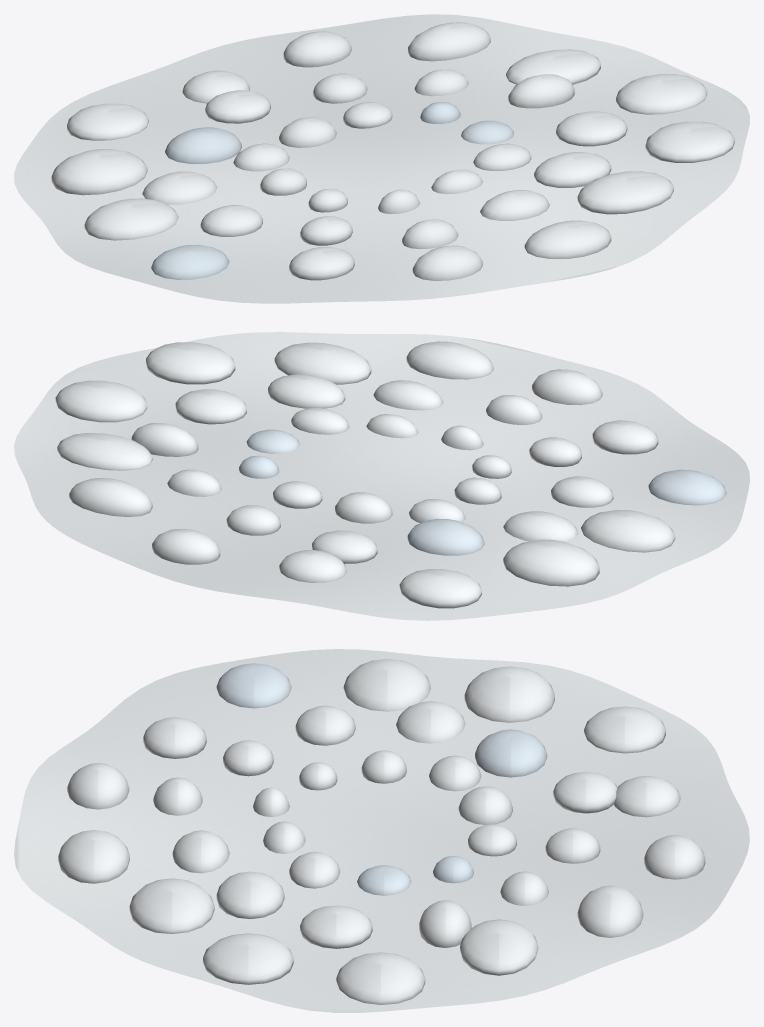
File: high_crown_cloud_sea.obj
The picture shows the model from 3 angles, top to bottom: view 1: azimuth 30°, elevation 25°; view 2: azimuth 150°, elevation 25°; view 3: azimuth 270°, elevation 25°; orthographic projection. The views are drawn at different scales.
Parts seen in each view (by area): view 1: high_crown_cloud_sea; view 2: high_crown_cloud_sea; view 3: high_crown_cloud_sea.
Part boxes in pixels (x1=…): high_crown_cloud_sea: x1=14, y1=14, x2=749, y2=303; high_crown_cloud_sea: x1=14, y1=332, x2=749, y2=620; high_crown_cloud_sea: x1=14, y1=649, x2=749, y2=1012.
Size of the model in its own units: 445 by 25.69 by 378.
2 materials, 2 textured.
